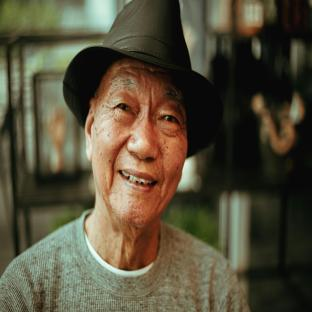Human: (0, 0, 250, 312)
